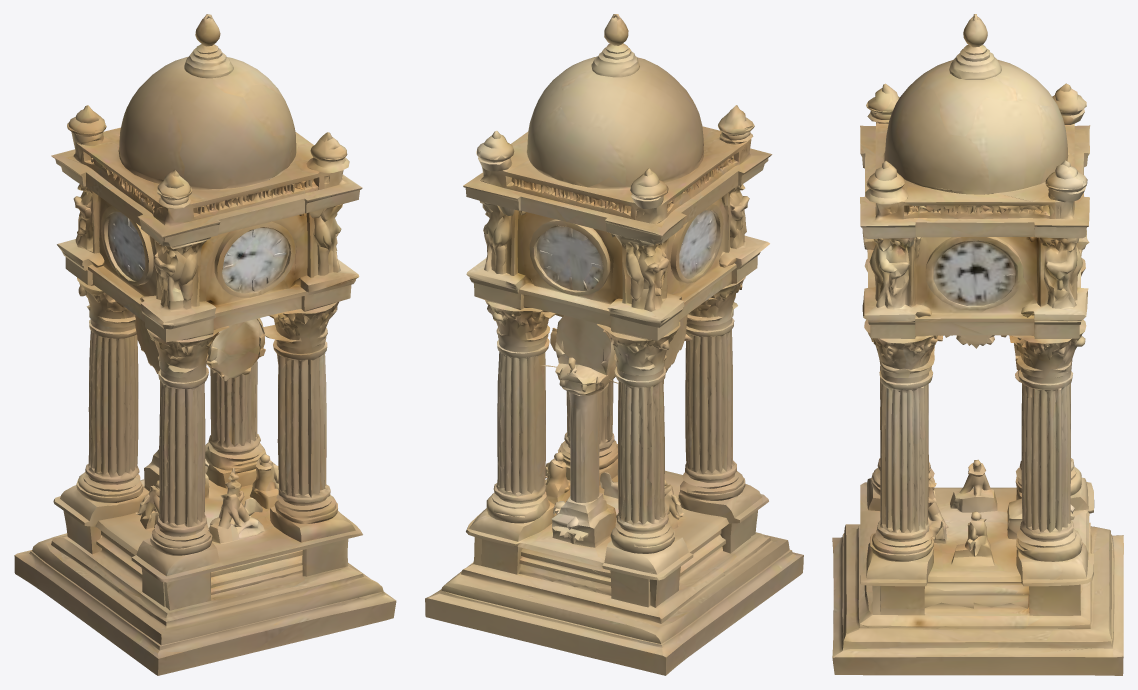
File: base_basic_pbr.glb
3 renders of one model, left to right at view 1: azimuth 30°, elevation 25°; view 2: azimuth 150°, elevation 25°; view 3: azimuth 270°, elevation 25°, orthographic. The views are drawn at different scales.
Visible parts, largest first — view 1: model; view 2: model; view 3: model.
Part boxes in pixels (x1,y1,x2,y2): model: [14, 14, 396, 675]; model: [425, 14, 803, 675]; model: [832, 14, 1123, 675].
Size of the model in its own units: 0.8229 by 1.89 by 0.8318.
1 material, 1 textured.
